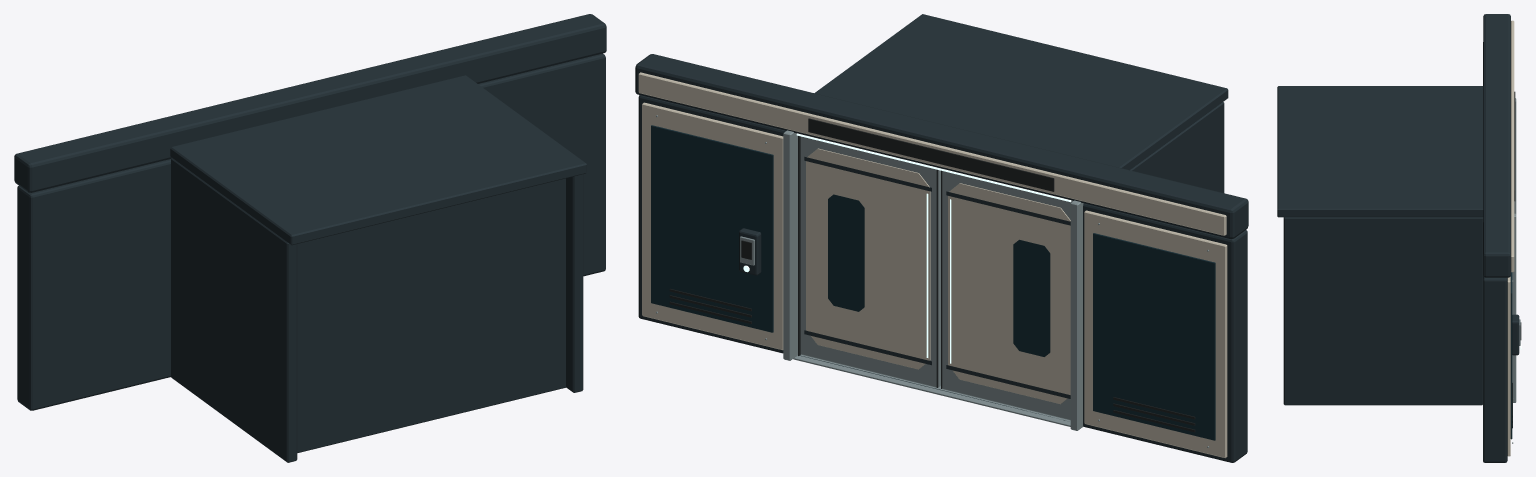
Rendered from station-elevator.glb.
3 renders of one model, left to right at view 1: azimuth 30°, elevation 25°; view 2: azimuth 150°, elevation 25°; view 3: azimuth 270°, elevation 25°, orthographic. The views are drawn at different scales.
Parts seen in each view (by area): view 1: Static_FinishDark; view 2: Static_FinishDark, Static_FinishPetrol, Static_FinishIvory, ElevatorLeafRight_FinishIvory, ElevatorLeafLeft_FinishIvory, Static_FinishSteel, ElevatorLeafRight_FinishSteel, Static_FinishRubber, ElevatorLeafLeft_FinishSteel, ElevatorLeafLeft_FinishPetrol, ElevatorLeafRight_FinishPetrol, ElevatorLeafRight_FinishDark (+3 smaller); view 3: Static_FinishDark, Static_FinishIvory, Static_FinishSteel, Static_FinishPetrol, Static_FinishRubber.
Boxes of the visible parts, x1,y1,x2,y2 form: Static_FinishDark: [14, 14, 606, 462]; Static_FinishDark: [635, 14, 1248, 462]; Static_FinishPetrol: [651, 125, 1215, 440]; Static_FinishIvory: [638, 72, 1227, 458]; ElevatorLeafRight_FinishIvory: [806, 148, 930, 369]; ElevatorLeafLeft_FinishIvory: [948, 183, 1070, 404]; Static_FinishSteel: [656, 115, 1209, 447]; ElevatorLeafRight_FinishSteel: [800, 136, 940, 387]; Static_FinishRubber: [669, 118, 1195, 432]; ElevatorLeafLeft_FinishSteel: [942, 171, 1073, 420]; ElevatorLeafLeft_FinishPetrol: [1013, 239, 1050, 356]; ElevatorLeafRight_FinishPetrol: [828, 194, 864, 311]; ElevatorLeafRight_FinishDark: [804, 156, 931, 365]; Static_FinishDark: [1277, 14, 1519, 462]; Static_FinishIvory: [1507, 20, 1514, 456]; Static_FinishSteel: [1512, 98, 1520, 443]; Static_FinishPetrol: [1510, 272, 1512, 439]; Static_FinishRubber: [1512, 91, 1521, 428].
Size of the model in its own units: 8.78 by 3.61 by 3.77.
